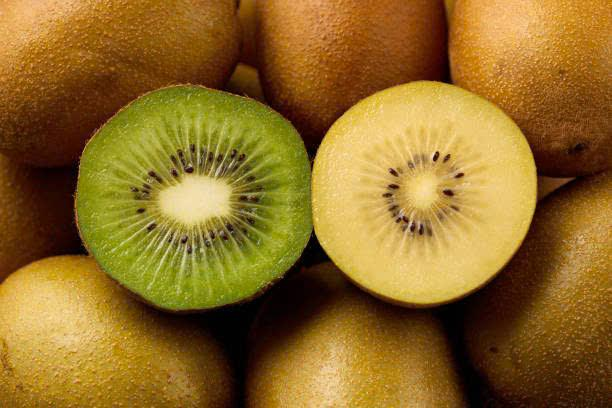kiwi: (83, 66, 322, 329), (317, 100, 564, 324), (1, 262, 216, 405), (0, 0, 245, 114), (453, 1, 612, 163), (235, 312, 475, 405), (255, 0, 471, 99)
